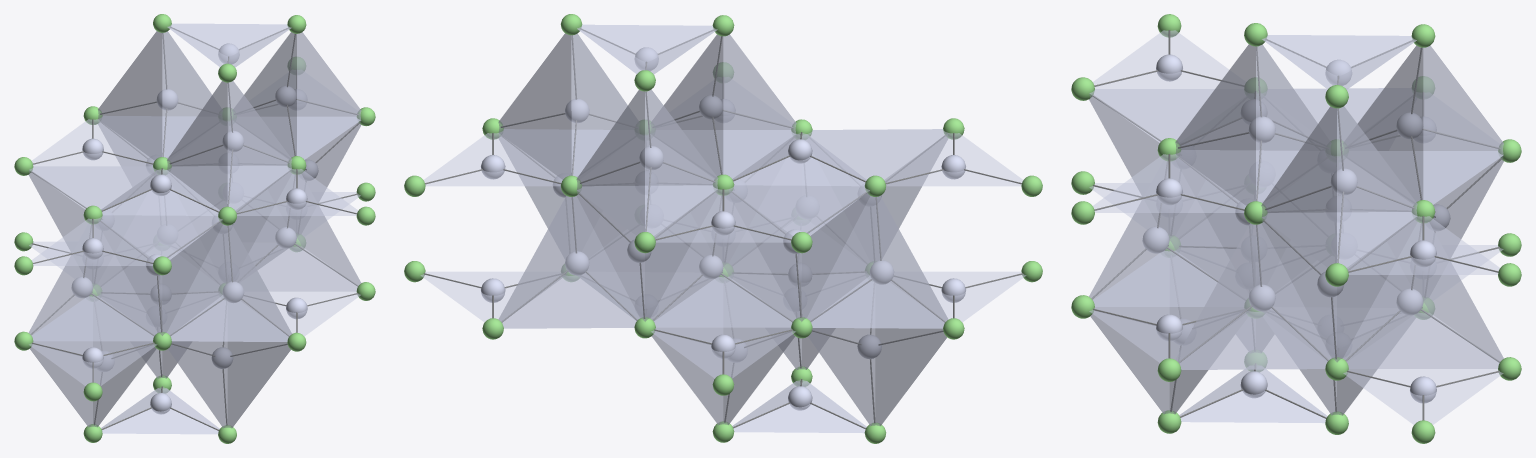
The model's file is LaF3.glb.
The picture shows the model from 3 angles, left to right: view 1: azimuth 30°, elevation 25°; view 2: azimuth 150°, elevation 25°; view 3: azimuth 270°, elevation 25°; orthographic projection. The views are drawn at different scales.
Parts seen in each view (by area): view 1: Shape_IndexedFaceSet, atom0_IndexedFaceSet, atom1_IndexedFaceSet, Shape_Cylinder; view 2: Shape_IndexedFaceSet, atom0_IndexedFaceSet, atom1_IndexedFaceSet, Shape_Cylinder; view 3: Shape_IndexedFaceSet, atom0_IndexedFaceSet, atom1_IndexedFaceSet, Shape_Cylinder.
Part boxes in pixels (x1=…): Shape_IndexedFaceSet: x1=28, y1=23, x2=361, y2=434; atom0_IndexedFaceSet: x1=14, y1=14, x2=375, y2=443; atom1_IndexedFaceSet: x1=71, y1=43, x2=318, y2=414; Shape_Cylinder: x1=30, y1=26, x2=359, y2=430; Shape_IndexedFaceSet: x1=420, y1=24, x2=1026, y2=433; atom0_IndexedFaceSet: x1=404, y1=14, x2=1042, y2=443; atom1_IndexedFaceSet: x1=481, y1=47, x2=965, y2=410; Shape_Cylinder: x1=423, y1=28, x2=1023, y2=429; Shape_IndexedFaceSet: x1=1089, y1=30, x2=1503, y2=424; atom0_IndexedFaceSet: x1=1071, y1=14, x2=1521, y2=443; atom1_IndexedFaceSet: x1=1142, y1=54, x2=1450, y2=403; Shape_Cylinder: x1=1091, y1=30, x2=1501, y2=420.
Bounding box in the file's own units: 16.28 × 11.64 × 11.06.
